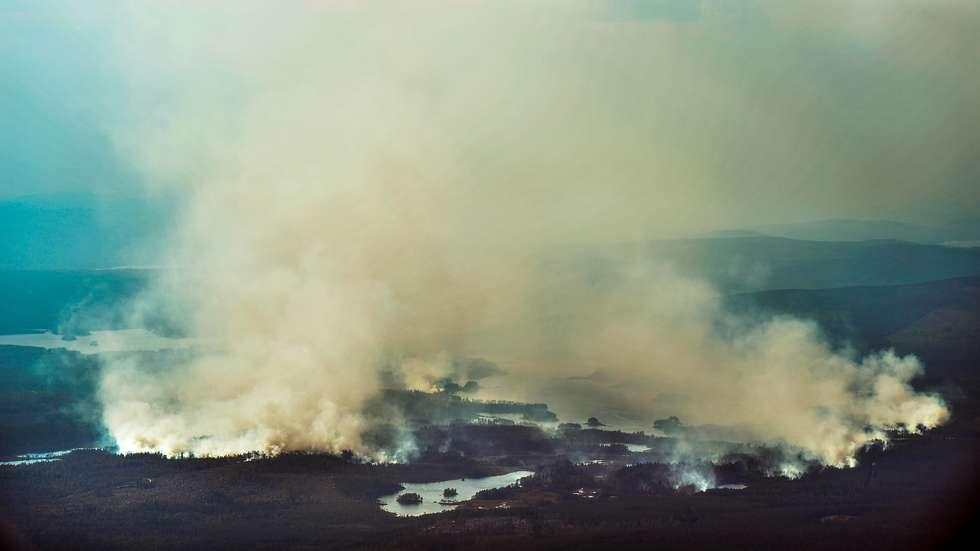smoke: (561, 264, 954, 480), (107, 216, 411, 463)
